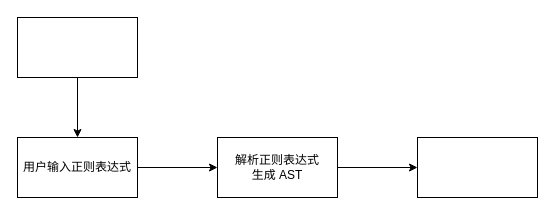
Image size: 555x215. Some labels were removed from this diagram. The box of each missing label's shape, as (x1, y1, x2, y2) in pixels:
执行 AST 自动化执行融合策略: (416, 136, 538, 198)
融合策略定义: (16, 16, 138, 78)
